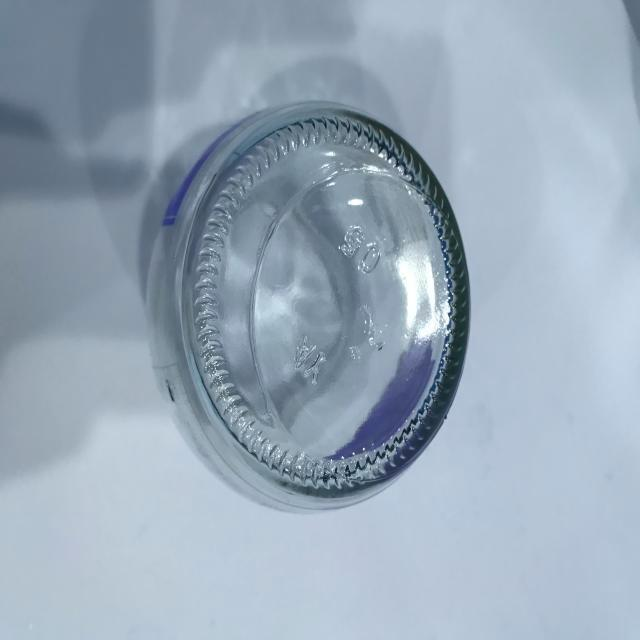glass: (131, 87, 480, 528)
